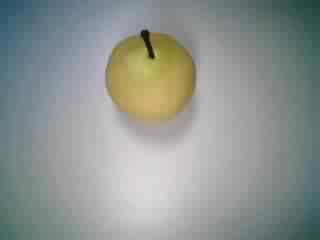pear: (97, 26, 202, 129)
